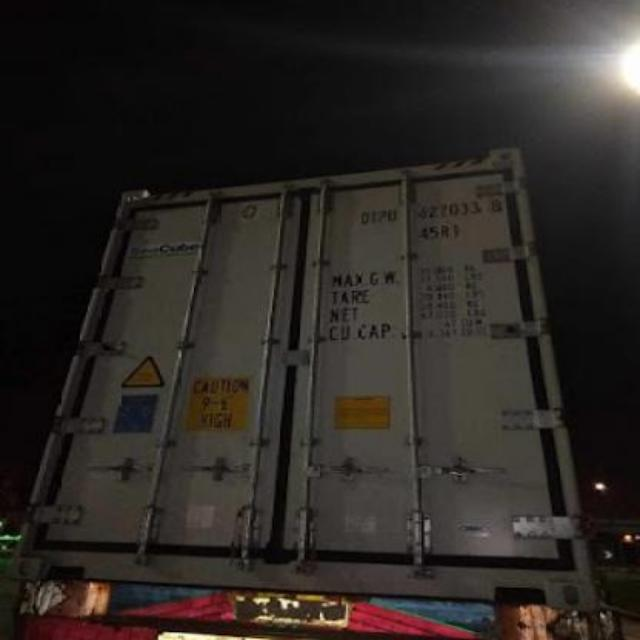0: (450, 202, 460, 215)
2: (430, 204, 438, 220), (440, 206, 448, 218)
3: (470, 200, 482, 216), (460, 202, 470, 215)
6: (418, 206, 428, 218)
8: (490, 200, 502, 212)
O: (360, 212, 370, 224)
P: (378, 210, 388, 223)
T: (370, 210, 380, 223)
U: (386, 210, 399, 223)
